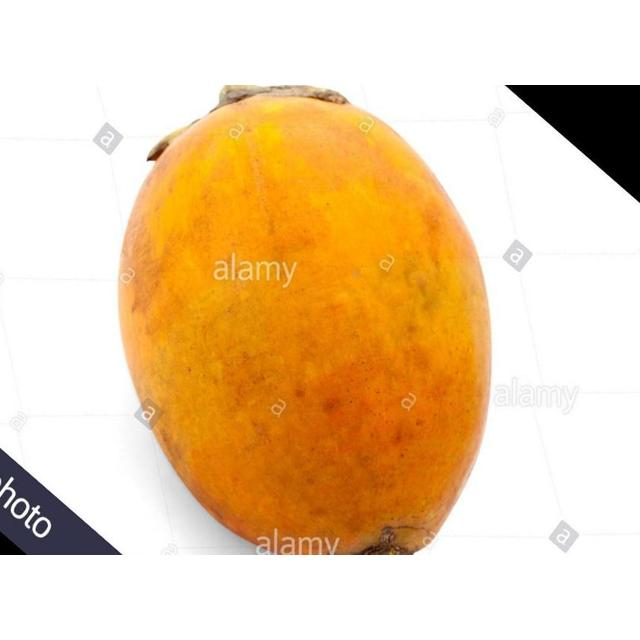good: (115, 90, 493, 555)
